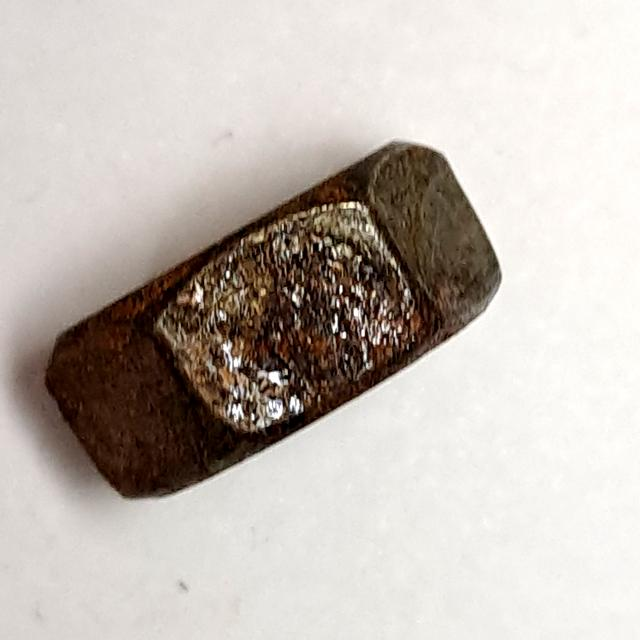Side_Rust: (34, 128, 513, 520)
